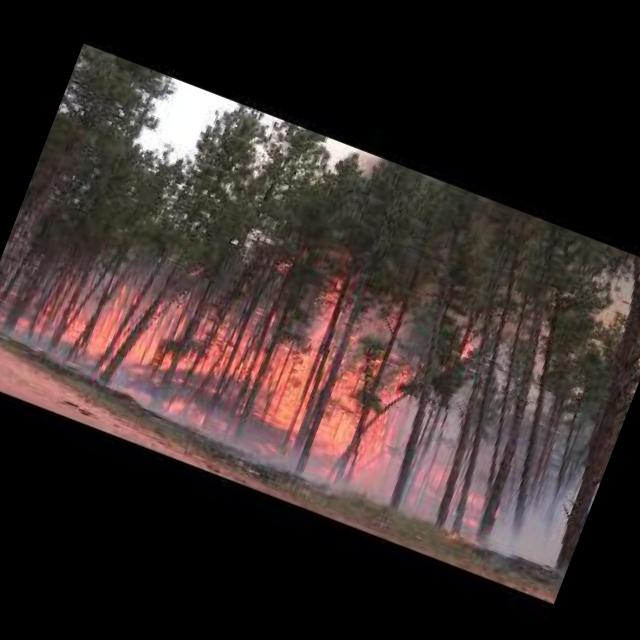fire: (0, 212, 412, 472), (440, 481, 506, 553)
